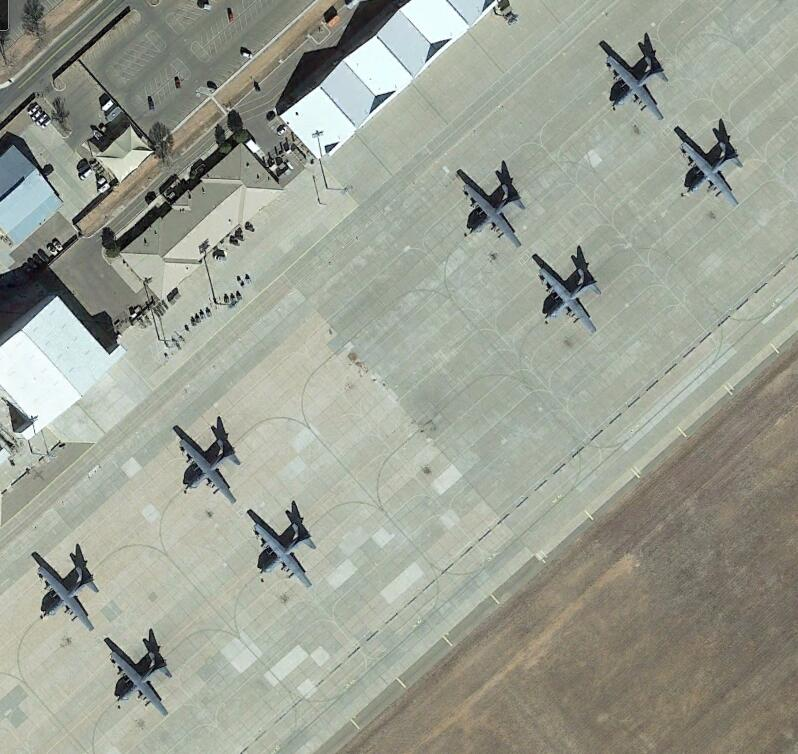A2: (529, 253, 601, 334), (33, 555, 104, 632), (249, 514, 317, 591), (174, 428, 242, 504), (460, 174, 530, 247), (106, 639, 172, 716), (678, 134, 746, 208), (605, 51, 672, 120)
